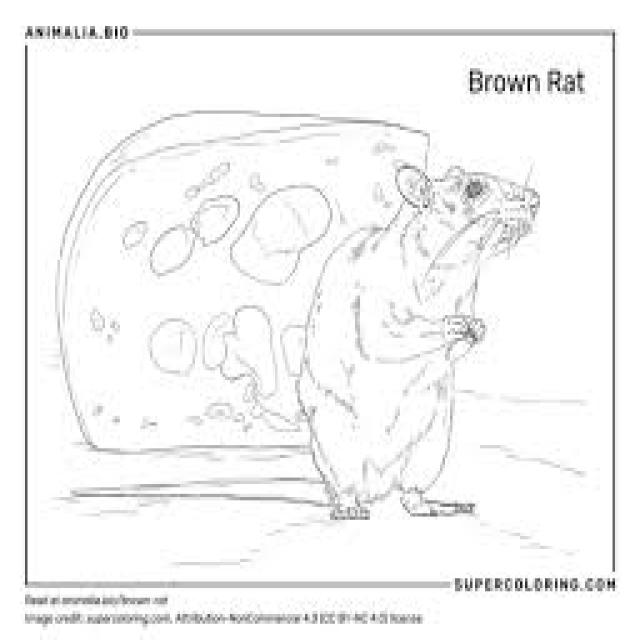rat: (292, 156, 540, 520)
